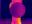Hotspot: (17, 17, 21, 23)
